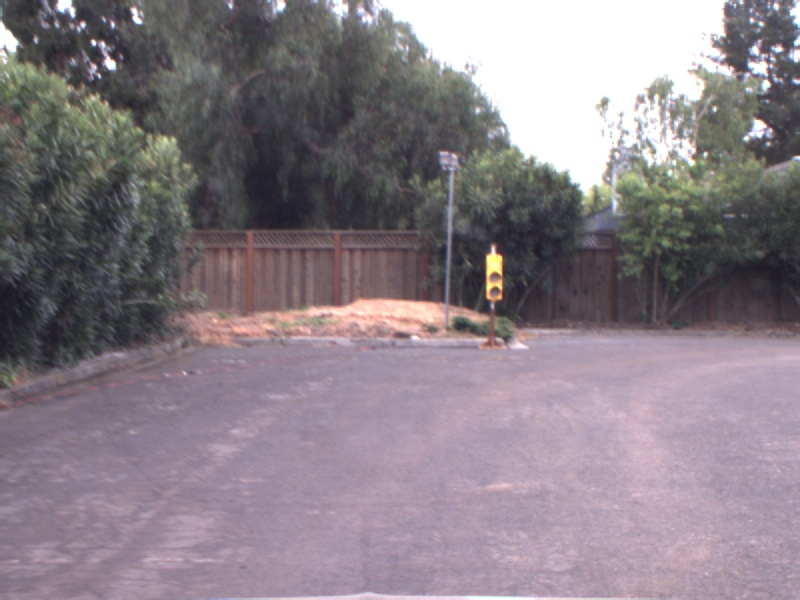red: (482, 250, 506, 302)
